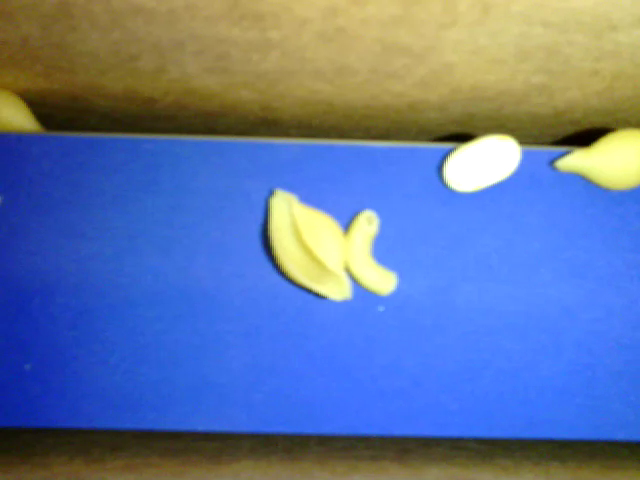elbow: (340, 208, 396, 297)
shell: (265, 187, 351, 302), (552, 126, 639, 191)
